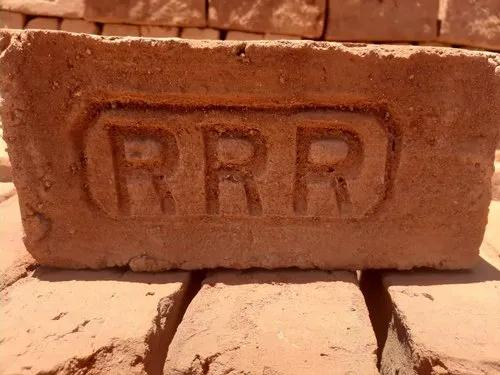brick: (0, 28, 498, 272)
